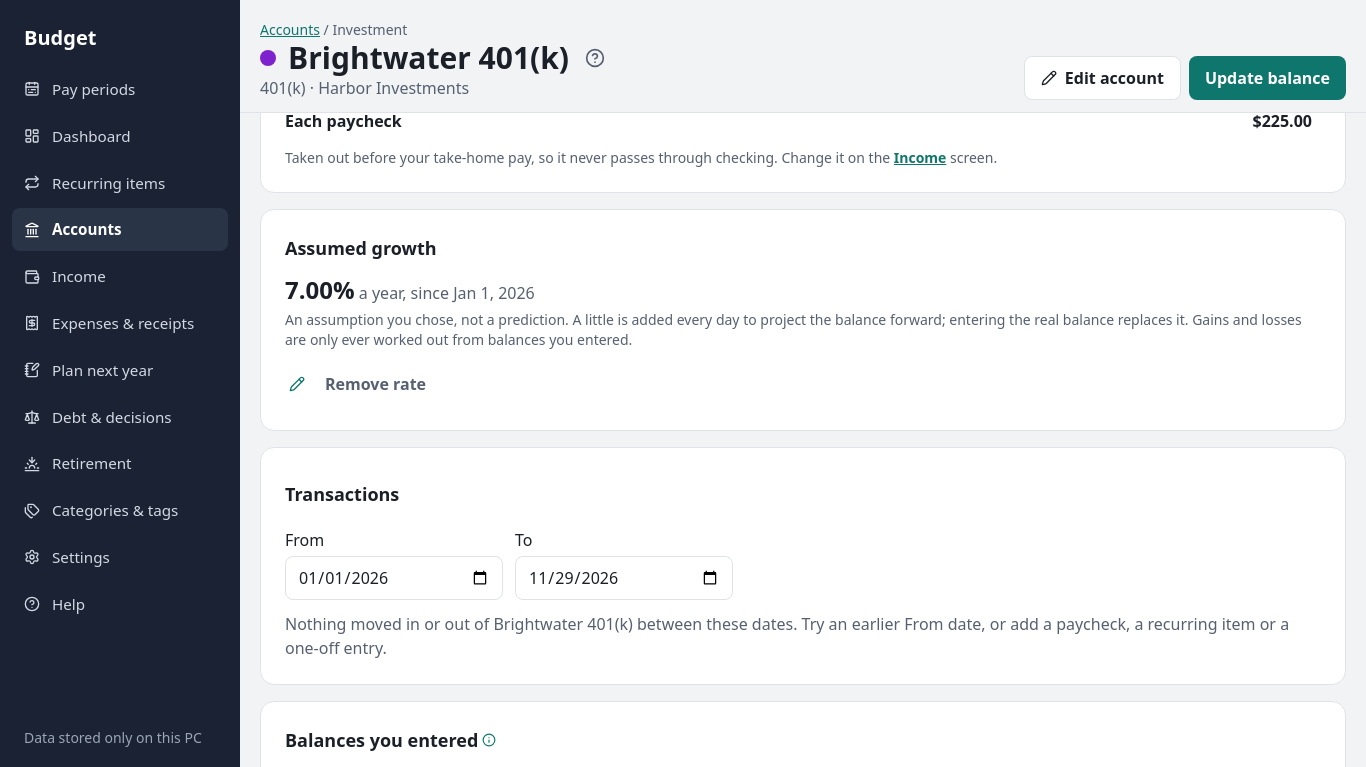
Scenario: investment account screen › changes the assumed rate from a new date, keeping the old one in the history
(page scrolled)
Click the button named "Edit assumed growth" at [297, 384], box [285,372,309,396]
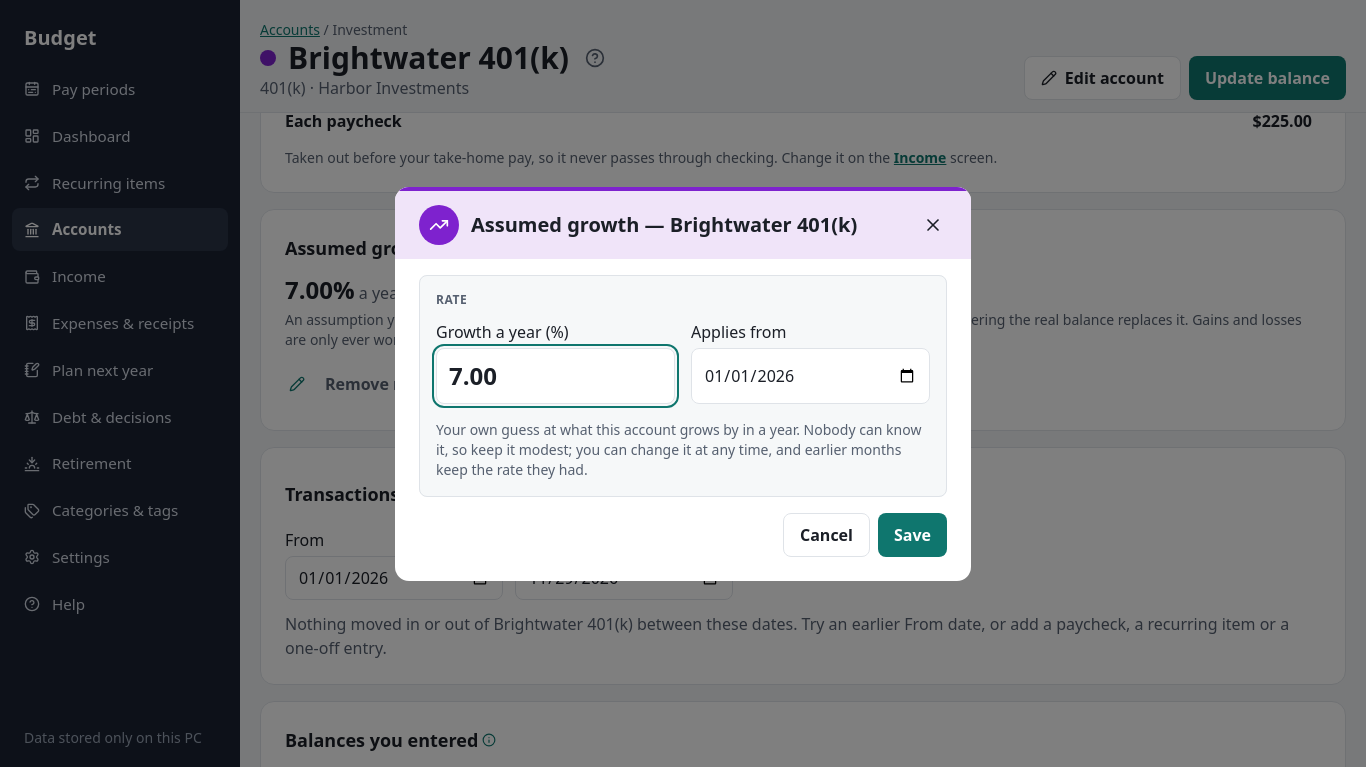
Result: the field labelled "Growth a year (%)" holds "7.00"
Replace the text in the field labelled "Growth a year (%)" with "5.5" at [556, 376], box [436,348,675,404]
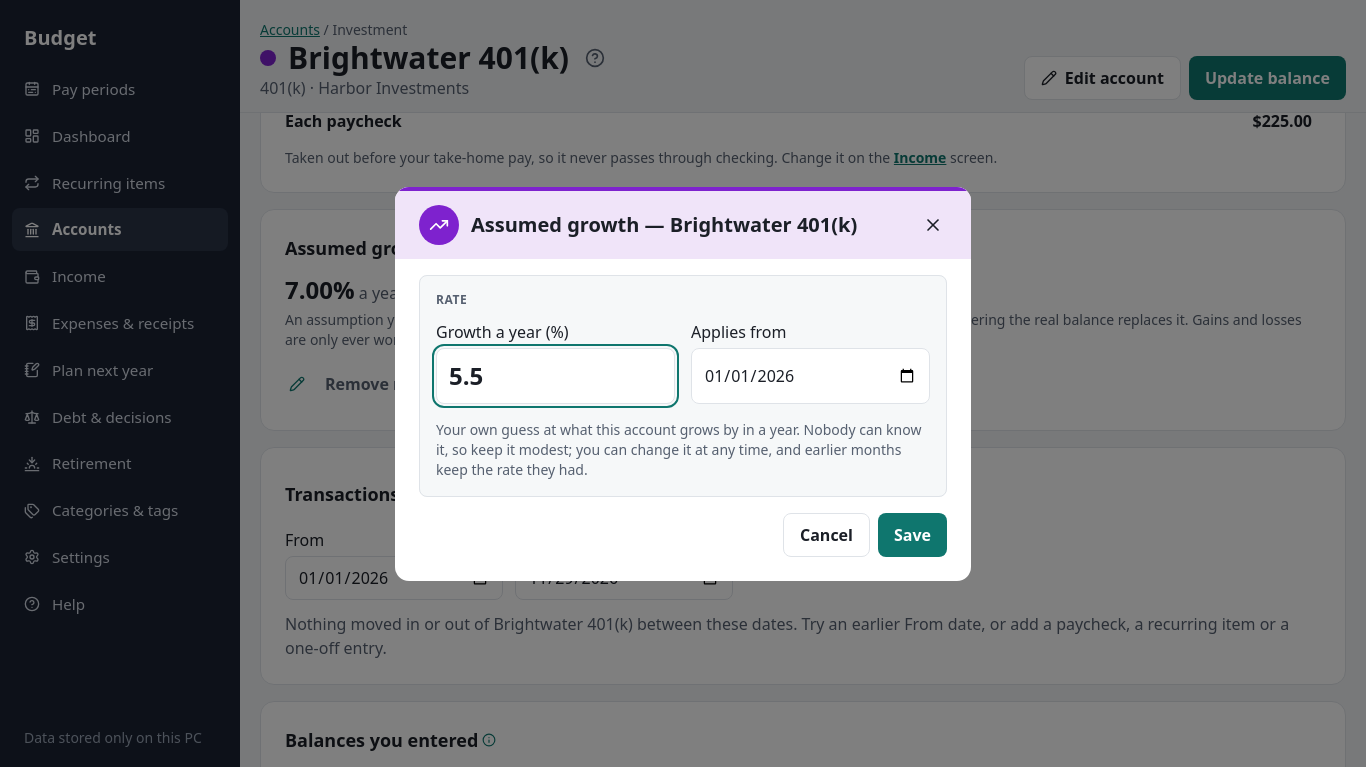
Type "2026-10-01" into the date field labelled "Applies from" at [810, 376], box [691,348,930,404]
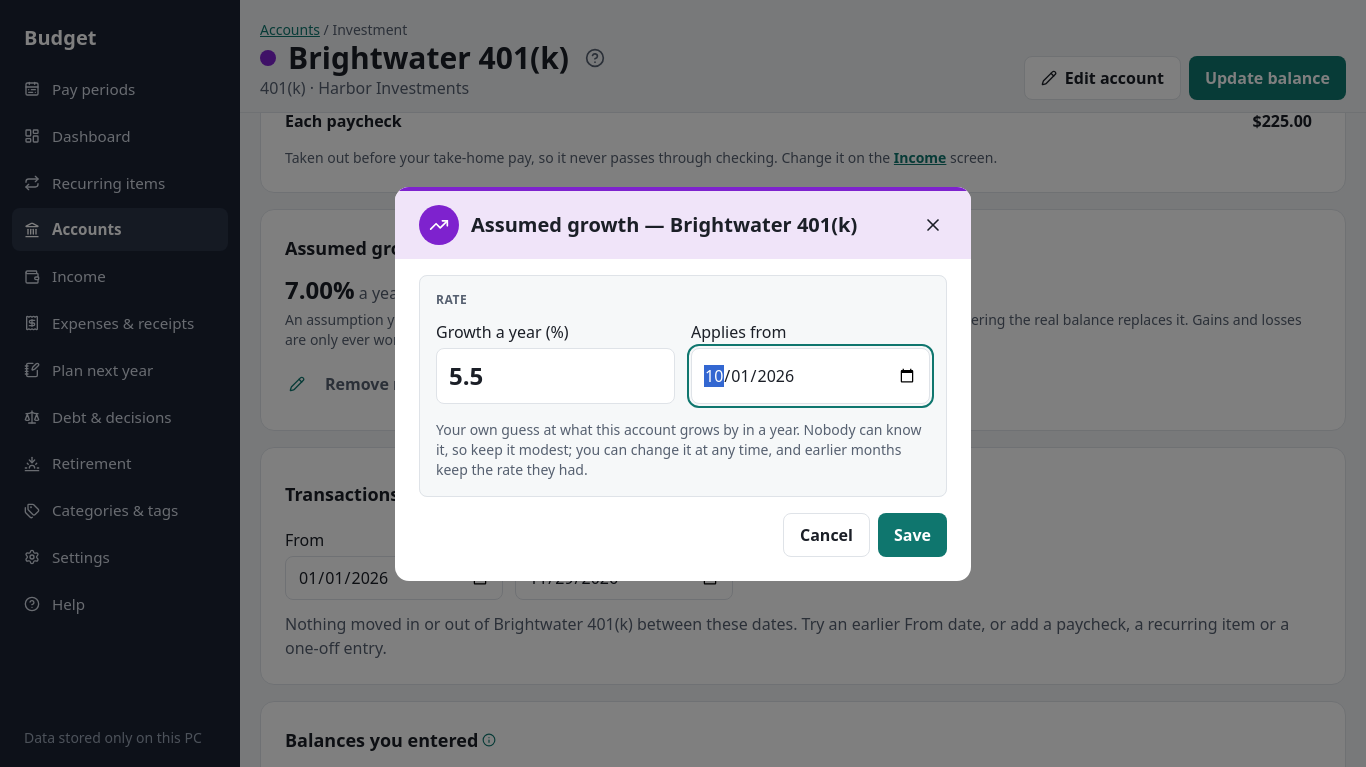
Click the button "Save" at [912, 535], box [878,513,947,557]
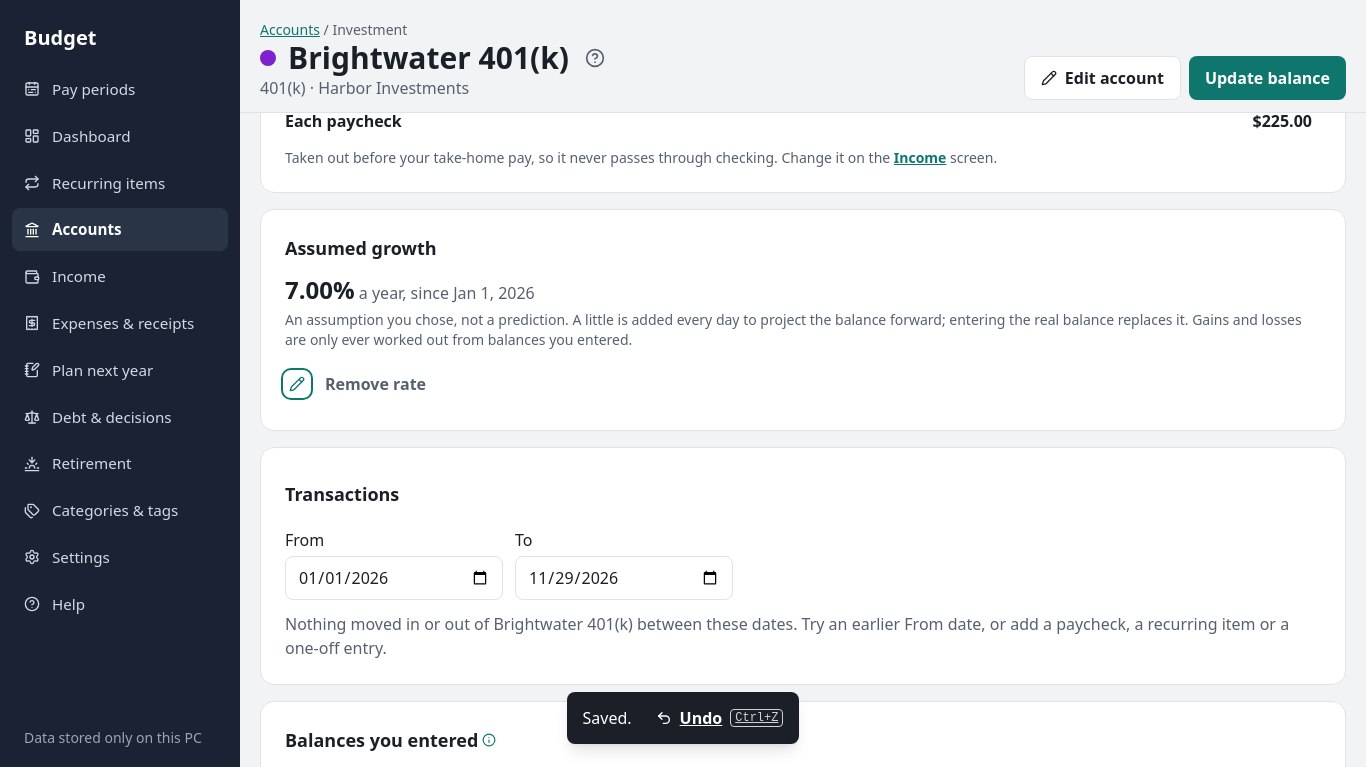
Result: the dialog is gone
